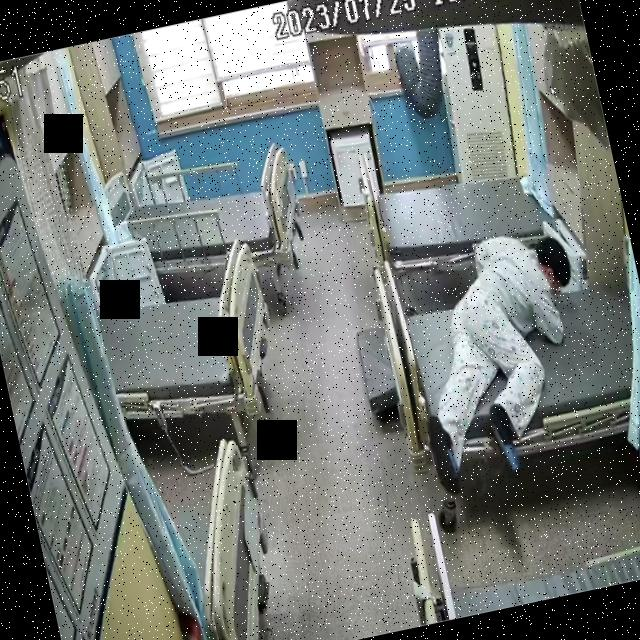bed: (366, 211, 640, 482), (351, 105, 565, 296), (92, 240, 287, 436), (120, 146, 308, 293)
danger: (393, 223, 605, 486)
patient: (390, 220, 610, 494)
